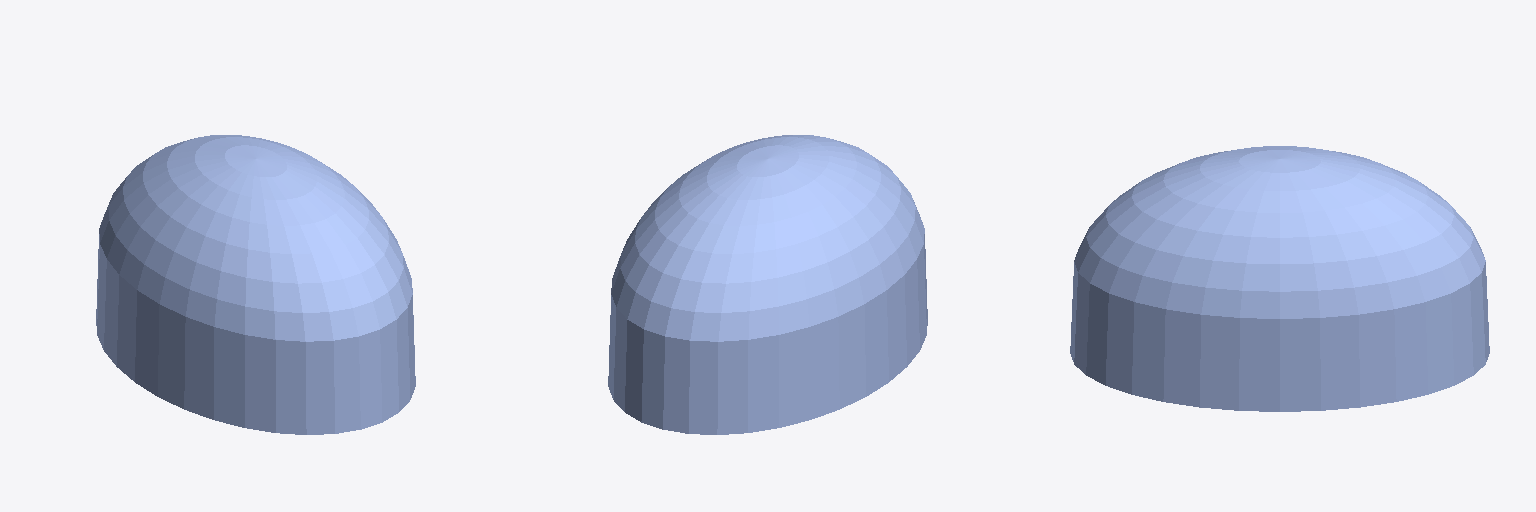
The model's file is Glass.obj.
The picture shows the model from 3 angles: view 1: azimuth 30°, elevation 25°; view 2: azimuth 150°, elevation 25°; view 3: azimuth 270°, elevation 25°; orthographic projection.
Parts seen in each view (by area): view 1: Glass; view 2: Glass; view 3: Glass.
Part boxes in pixels (x1,y1,x2,y2): Glass: (96, 135, 415, 434); Glass: (608, 135, 927, 434); Glass: (1070, 146, 1489, 411).
Size of the model in its own units: 41.6 by 31.86 by 62.4.